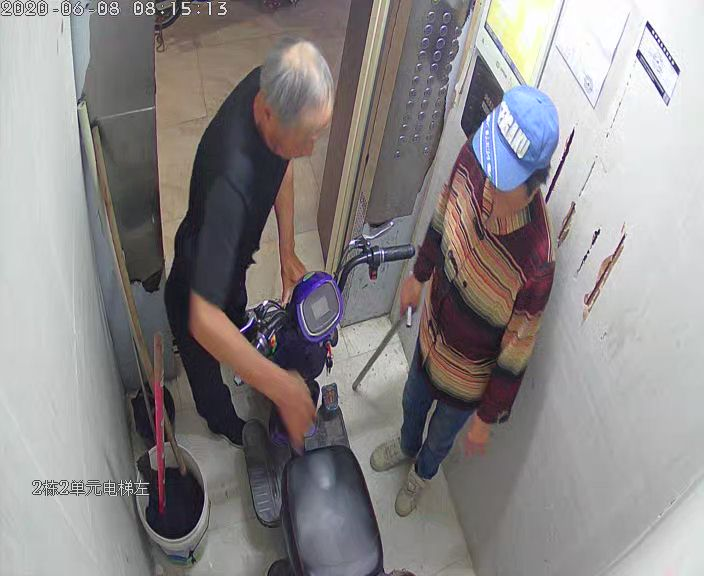Electric-bicycle: (235, 242, 417, 572)
